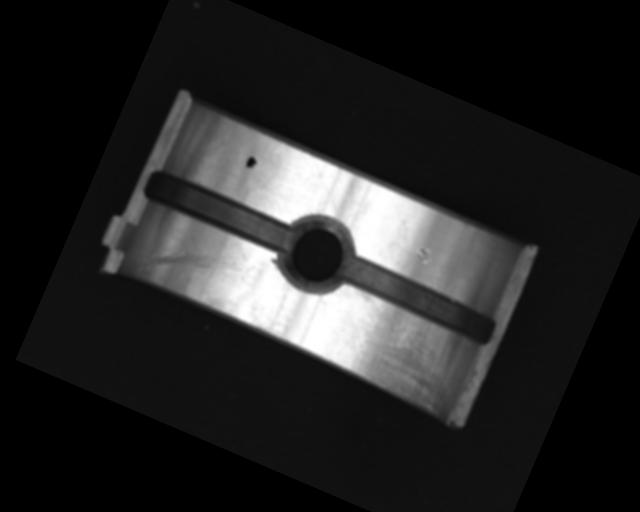blot: (243, 154, 258, 172)
bruise: (412, 243, 436, 267)
gap: (334, 251, 503, 351), (139, 165, 298, 258)
hole: (267, 205, 365, 303)
nick: (136, 219, 254, 311)
scratch: (326, 290, 474, 418)
